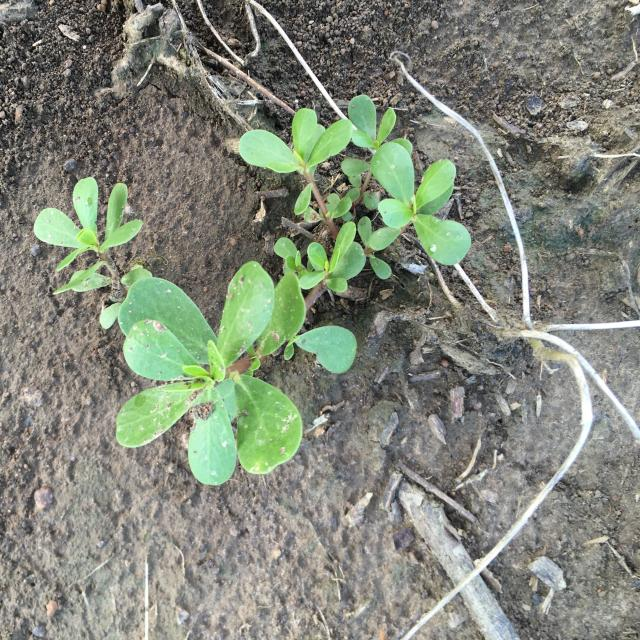Purslane: (115, 94, 471, 486), (34, 177, 153, 329)
